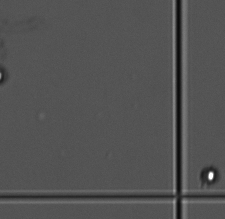Living Cell: (199, 166, 221, 185), (1, 65, 8, 87)
